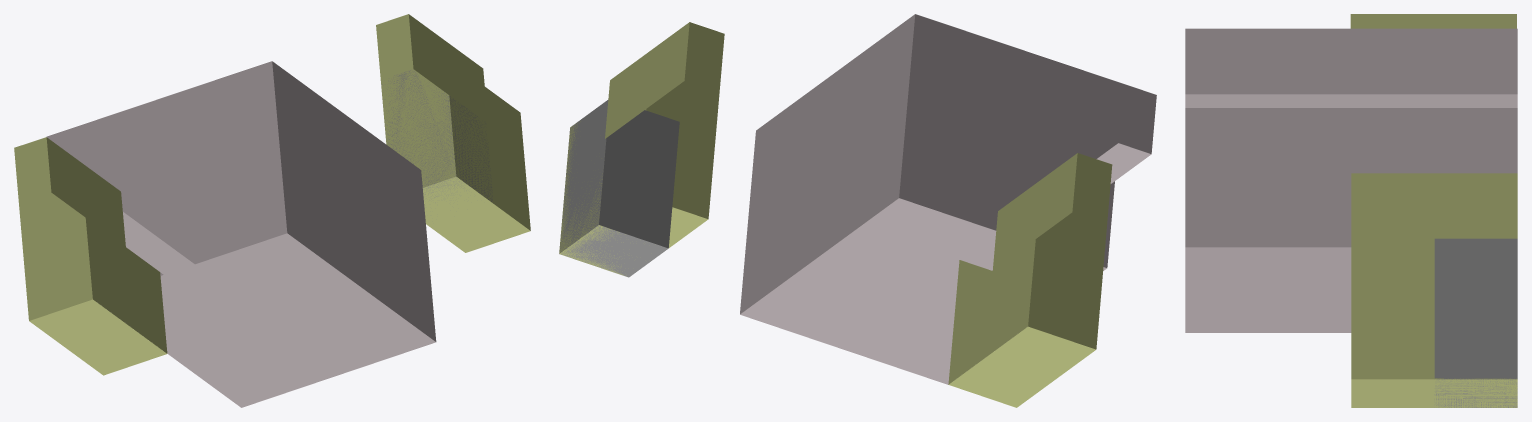
3 views of the same model, side by side, from view 1: azimuth 30°, elevation 25°; view 2: azimuth 150°, elevation 25°; view 3: azimuth 270°, elevation 25° (orthographic). The views are drawn at different scales.
Visible parts, largest first — view 1: 0_2_3_3_3_1_0_3_1_1; view 2: 0_2_3_3_3_1_0_3_1_1; view 3: 0_2_3_3_3_1_0_3_1_1.
Boxes of the visible parts, x1,y1,x2,y2 form: 0_2_3_3_3_1_0_3_1_1: [14, 14, 530, 407]; 0_2_3_3_3_1_0_3_1_1: [559, 14, 1156, 407]; 0_2_3_3_3_1_0_3_1_1: [1185, 14, 1517, 407].
Bounding box in the file's own units: 20.58 × 9.51 × 12.
